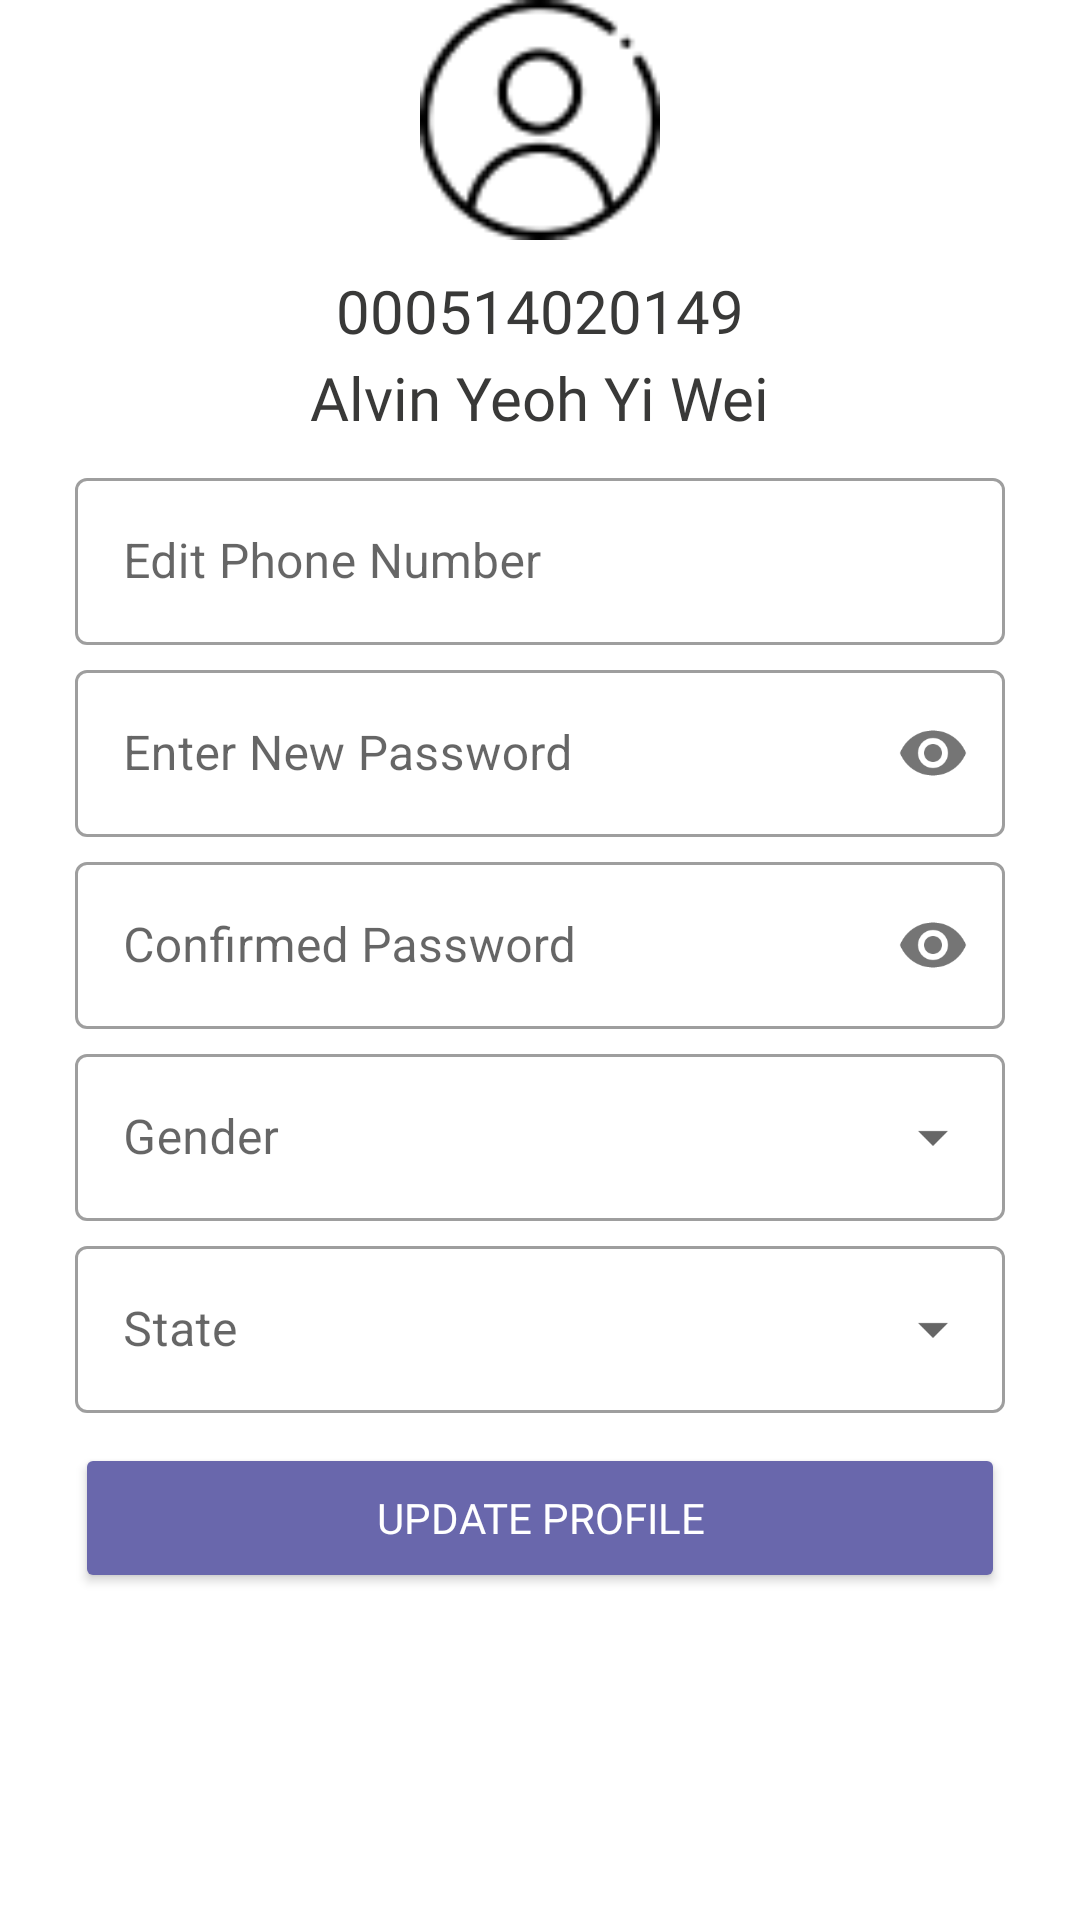

Named icons in this screenshot (1080 x 1920) and their bounding boxes, (x1, y1, x2, y2):
user: (420, 0, 660, 240)
